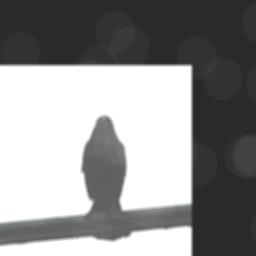Crow: (79, 115, 130, 242)
